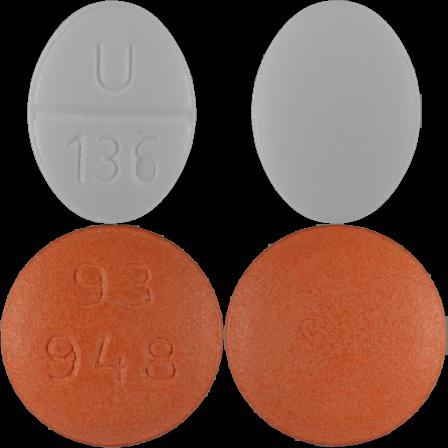66267-062: (0, 0, 224, 224)
